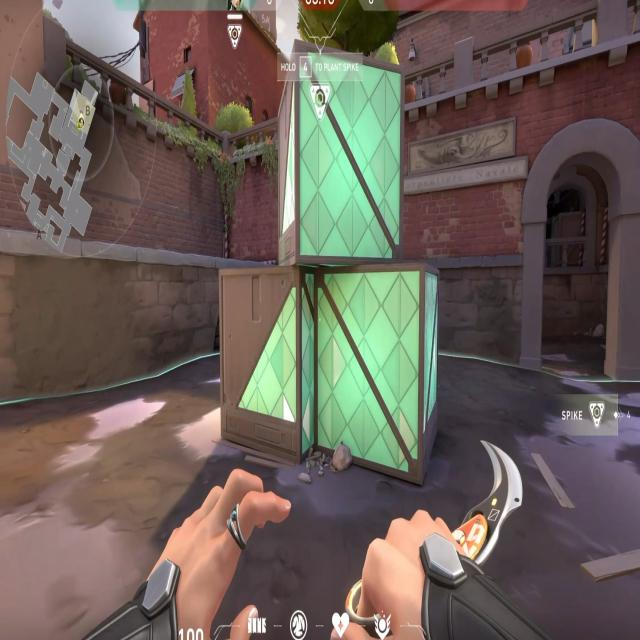B_Boathouse: (510, 111, 640, 392)
B_Site_Box: (217, 54, 445, 479)
